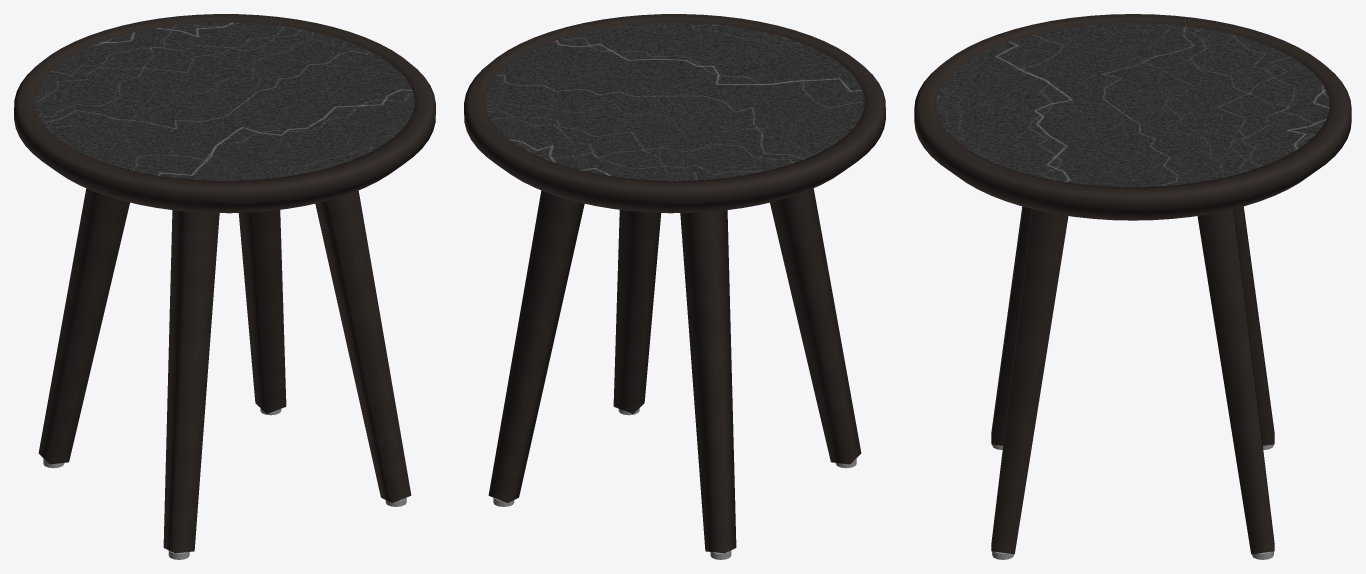
The model's file is ownAshSmall.glb.
3 renders of one model, left to right at view 1: azimuth 30°, elevation 25°; view 2: azimuth 150°, elevation 25°; view 3: azimuth 270°, elevation 25°, orthographic. The views are drawn at different scales.
Size of the model in its own units: 0.52 by 0.52 by 0.52.
4 materials, 3 textured.
